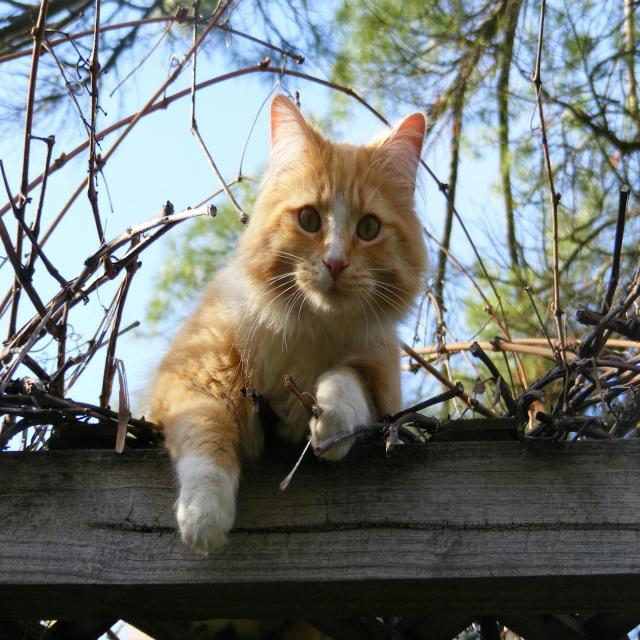Cat: (138, 92, 431, 556)
